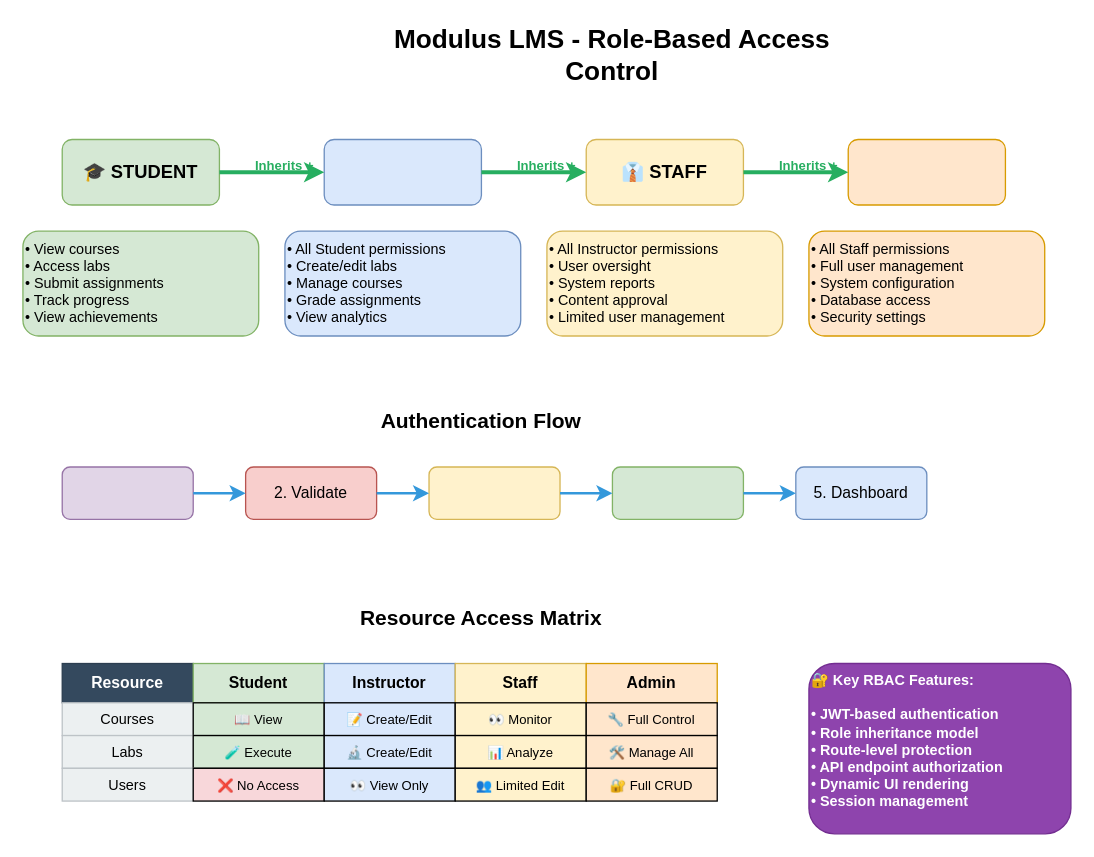
This 1094x857 diagram has some shape labels left out. The shapes that lost their labels are listed below. From the top down, each one's centre as x and y in pixels, then its label:
At pixel 402 171: "👨‍🏫 INSTRUCTOR".
At pixel 926 171: "👑 ADMIN".
At pixel 127 492: "1. Login".
At pixel 494 492: "3. Get Role".
At pixel 677 492: "4. JWT Token".
